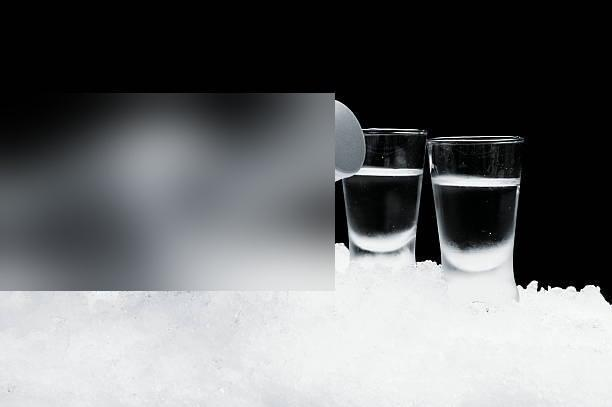glass-normal: (427, 134, 525, 274), (339, 126, 428, 255)
